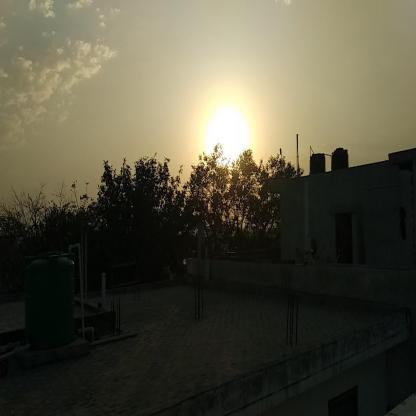other: (188, 82, 262, 189)
